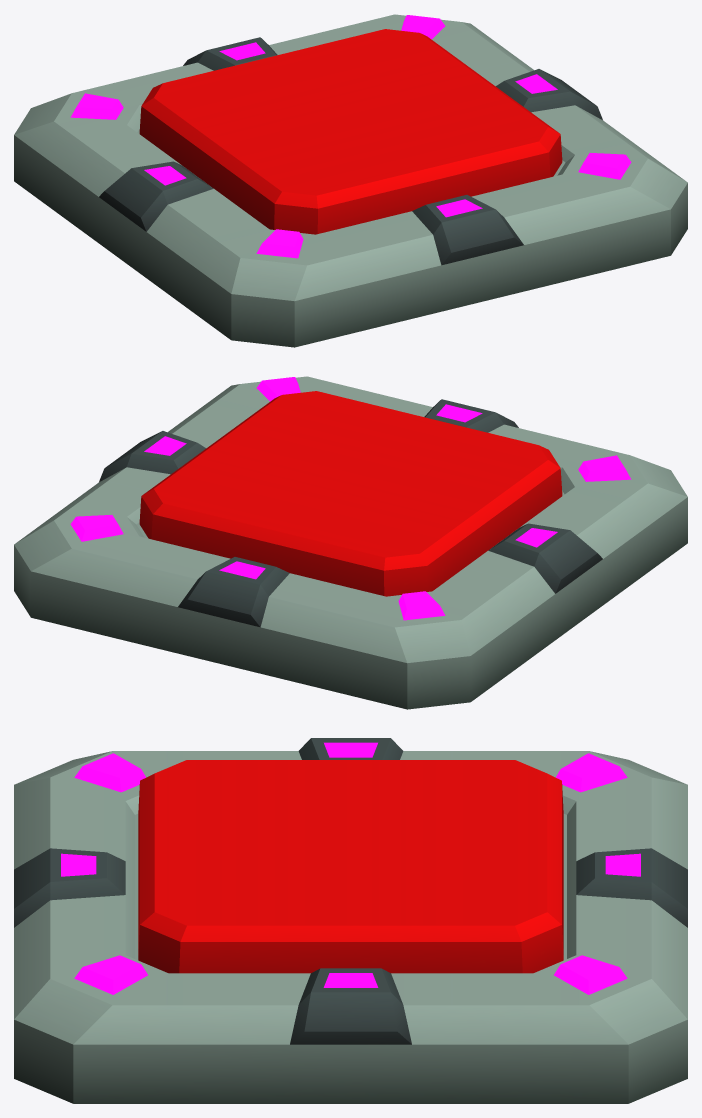
The model's file is switch_008.fbx.
3 renders of one model, top to bottom at view 1: azimuth 30°, elevation 25°; view 2: azimuth 150°, elevation 25°; view 3: azimuth 270°, elevation 25°, orthographic. The views are drawn at different scales.
Parts seen in each view (by area): view 1: switch.008; view 2: switch.008; view 3: switch.008.
Boxes of the visible parts, left/top/right/bottom form: switch.008: left=14, top=14, right=687, bottom=347; switch.008: left=14, top=376, right=687, bottom=709; switch.008: left=14, top=738, right=687, bottom=1103.
Size of the model in its own units: 180 by 34.88 by 180.
